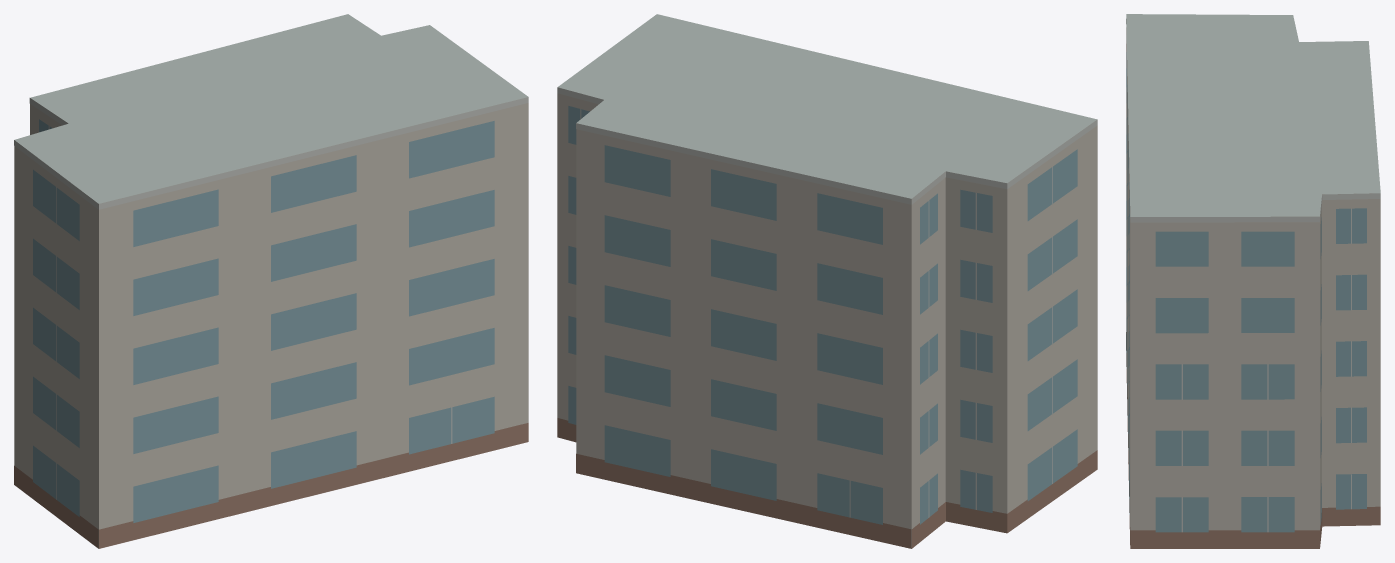
Rendered from survey-upis-32724991.glb.
3 renders of one model, left to right at view 1: azimuth 30°, elevation 25°; view 2: azimuth 150°, elevation 25°; view 3: azimuth 270°, elevation 25°, orthographic. The views are drawn at different scales.
Visible parts, largest first — view 1: survey-upis-32724991.tmp; view 2: survey-upis-32724991.tmp; view 3: survey-upis-32724991.tmp.
Part boxes in pixels (<box>): survey-upis-32724991.tmp: <box>14,14,528,548</box>; survey-upis-32724991.tmp: <box>557,14,1097,548</box>; survey-upis-32724991.tmp: <box>1126,14,1380,548</box>.
Bounding box in the file's own units: 18.75 × 14.3 × 9.95.
